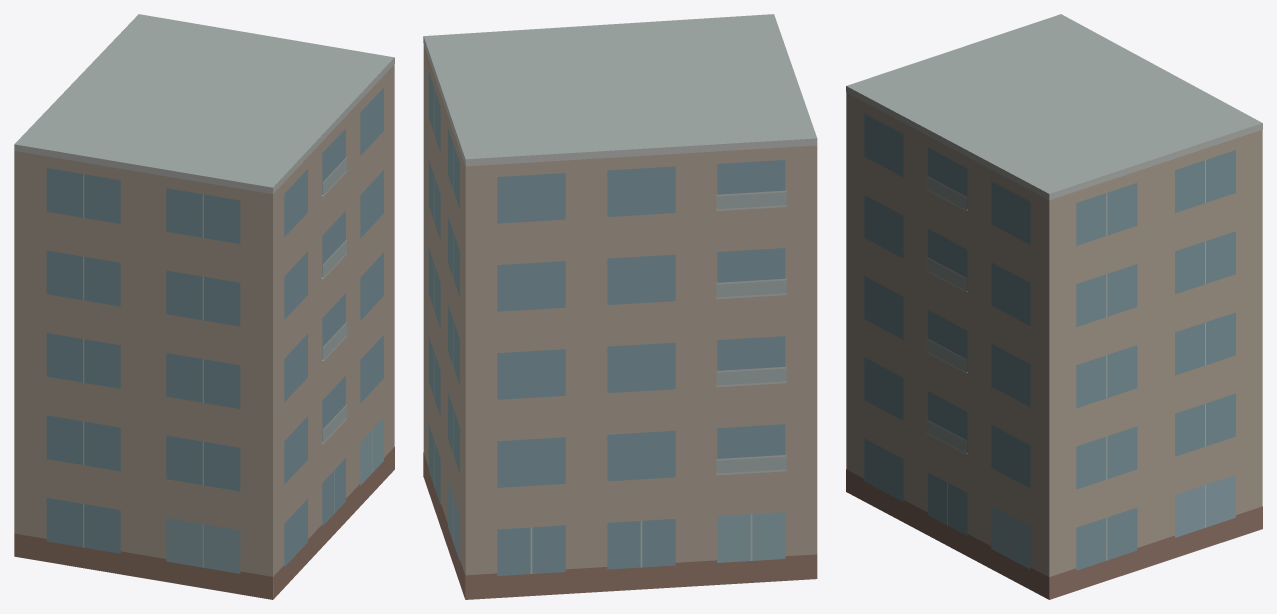
Rendered from survey-upis-32680059.glb.
3 renders of one model, left to right at view 1: azimuth 30°, elevation 25°; view 2: azimuth 150°, elevation 25°; view 3: azimuth 270°, elevation 25°, orthographic. The views are drawn at different scales.
Parts seen in each view (by area): view 1: survey-upis-32680059.tmp; view 2: survey-upis-32680059.tmp; view 3: survey-upis-32680059.tmp.
Boxes of the visible parts, x1,y1,x2,y2 form: survey-upis-32680059.tmp: (14,14,394,599); survey-upis-32680059.tmp: (423,14,817,599); survey-upis-32680059.tmp: (846,14,1262,599).
Size of the model in its own units: 14.51 by 15.25 by 14.19.
